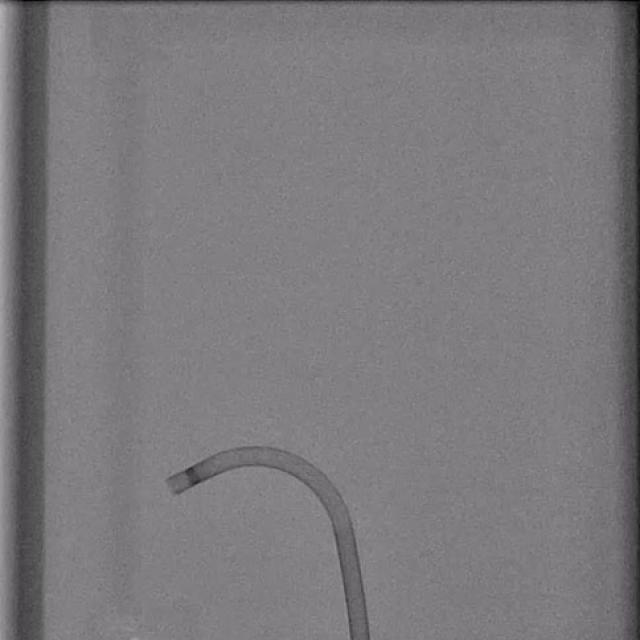bend: (328, 512, 355, 532)
entry: (350, 634, 370, 640)
marker: (186, 466, 203, 486)
tip: (164, 478, 178, 495)
